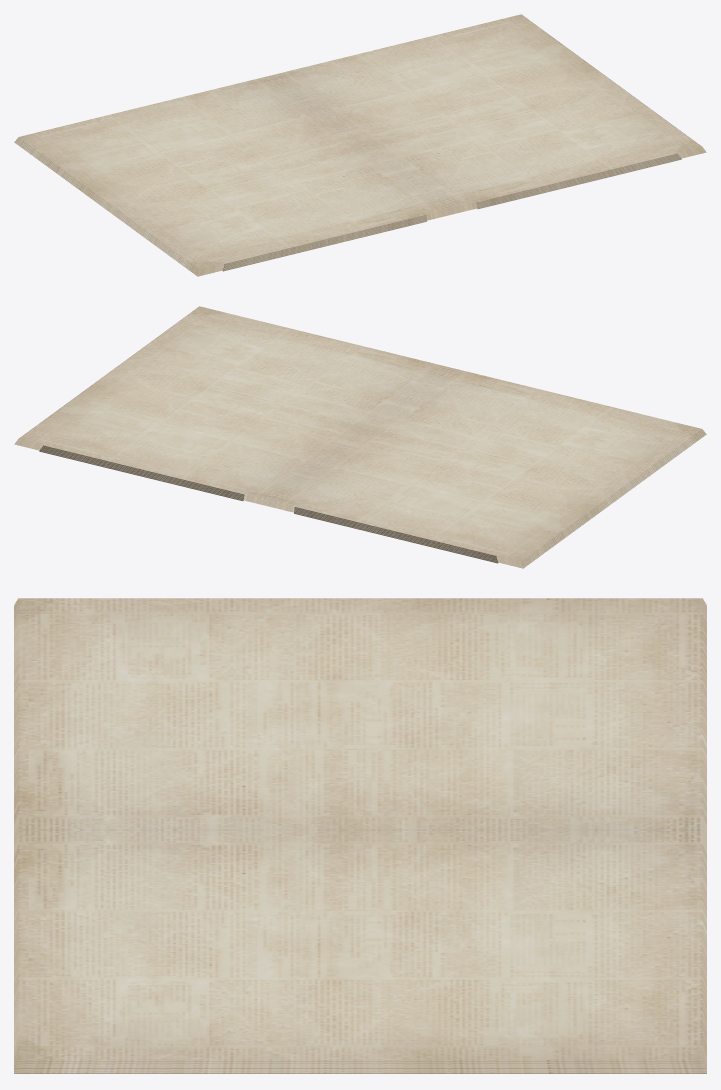
File: Periodico.fbx
The picture shows the model from 3 angles, top to bottom: view 1: azimuth 30°, elevation 25°; view 2: azimuth 150°, elevation 25°; view 3: azimuth 270°, elevation 25°; orthographic projection. The views are drawn at different scales.
Parts seen in each view (by area): view 1: Periodico.011, Periodico.012, Periodico.004, Periodico.005, Periodico.009, Periodico.001, Periodico.008, Periodico.003, Periodico.006, Periodico.002, Periodico.010, Periodico.007; view 2: Periodico.011, Periodico.012, Periodico.004, Periodico.005, Periodico.009, Periodico.001, Periodico.008, Periodico.003, Periodico.006, Periodico.002, Periodico.010, Periodico.007; view 3: Periodico.011, Periodico.012, Periodico.003, Periodico.006, Periodico.002, Periodico.007, Periodico.010, Periodico.004, Periodico.005.
Part boxes in pixels (box(x1,y1,x2,y2)): Periodico.011: box(270, 14, 702, 208); Periodico.012: box(18, 76, 450, 269); Periodico.004: box(15, 141, 451, 275); Periodico.005: box(16, 140, 451, 273); Periodico.009: box(17, 138, 450, 271); Periodico.001: box(14, 142, 451, 276); Periodico.008: box(16, 139, 450, 272); Periodico.003: box(451, 150, 705, 213); Periodico.006: box(451, 149, 704, 211); Periodico.002: box(451, 151, 706, 214); Periodico.010: box(451, 147, 703, 209); Periodico.007: box(451, 148, 703, 210); Periodico.011: box(18, 306, 450, 500); Periodico.012: box(270, 368, 702, 561); Periodico.004: box(269, 433, 705, 567); Periodico.005: box(269, 432, 704, 565); Periodico.009: box(270, 430, 703, 563); Periodico.001: box(269, 434, 706, 568); Periodico.008: box(270, 431, 704, 564); Periodico.003: box(15, 442, 269, 505); Periodico.006: box(16, 441, 269, 503); Periodico.002: box(14, 443, 269, 506); Periodico.010: box(17, 439, 269, 501); Periodico.007: box(17, 440, 269, 502); Periodico.011: box(18, 830, 702, 1061); Periodico.012: box(18, 598, 702, 829); Periodico.003: box(14, 837, 706, 1071); Periodico.006: box(15, 836, 705, 1068); Periodico.002: box(14, 839, 706, 1073); Periodico.007: box(16, 833, 704, 1066); Periodico.010: box(17, 832, 703, 1063); Periodico.004: box(14, 603, 706, 837); Periodico.005: box(15, 602, 705, 835).
Size of the model in its own units: 320 by 3.65 by 200.
Materials: 12 (12 with a texture image).
